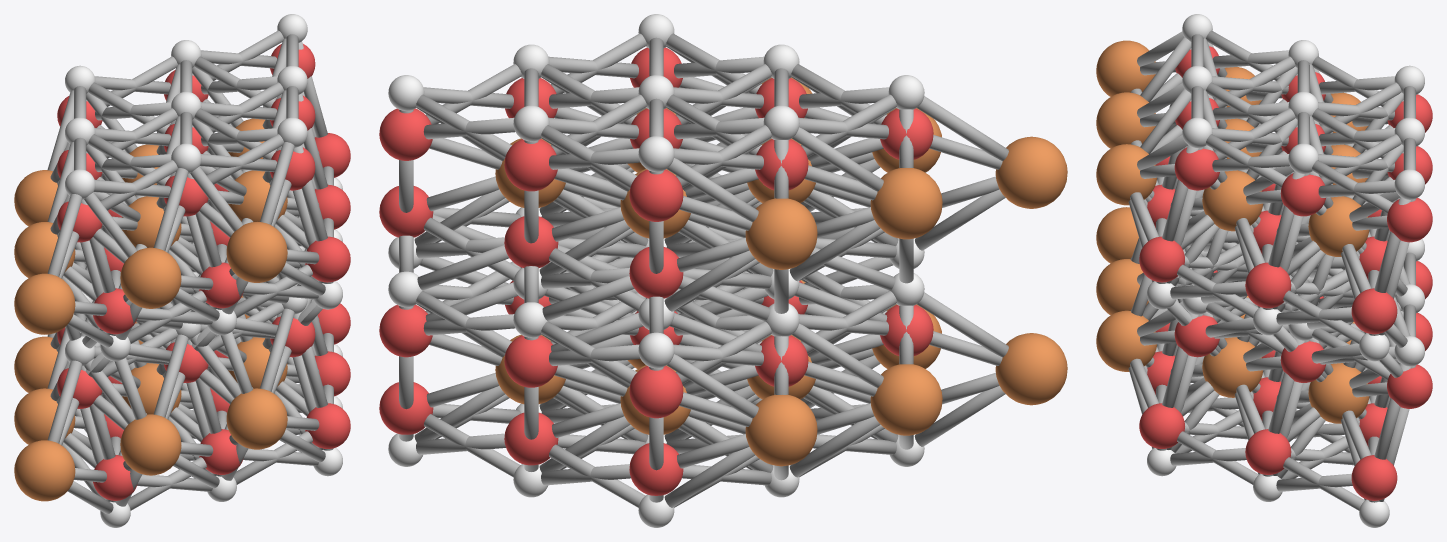
File: FeOH_structure.glb
3 views of the same model, side by side, from view 1: azimuth 30°, elevation 25°; view 2: azimuth 150°, elevation 25°; view 3: azimuth 270°, elevation 25° (orthographic). The views are drawn at different scales.
Visible parts, largest first — view 1: Sphere, Sphere.045, Sphere.075, Sphere.060, Sphere.015, Sphere.030, Sphere.005, Sphere.050, Sphere.010, Sphere.055, Sphere.077, Sphere.032 (+131 smaller); view 2: Sphere.045, Sphere.005, Sphere.055, Sphere, Sphere.050, Sphere.010, Sphere.011, Sphere.056, Sphere.071, Sphere.086, Sphere.041, Sphere.026 (+137 smaller); view 3: Sphere.075, Sphere.030, Sphere.045, Sphere.085, Sphere.080, Sphere.060, Sphere.035, Sphere.040, Sphere.015, Sphere, Sphere.087, Sphere.042 (+130 smaller).
Part boxes in pixels (x1,y1,x2,y2): Sphere: (14,440,75,501); Sphere.045: (14,273,75,334); Sphere.075: (226,222,287,282); Sphere.060: (120,247,181,308); Sphere.015: (120,414,181,475); Sphere.030: (226,388,287,449); Sphere.005: (14,388,75,444); Sphere.050: (14,222,75,278); Sphere.010: (14,336,57,392); Sphere.055: (14,170,57,226); Sphere.077: (305,236,350,282); Sphere.032: (305,403,350,448); Sphere.045: (995,136,1067,208); Sphere.005: (870,364,942,435); Sphere.055: (745,198,817,269); Sphere: (995,333,1067,405); Sphere.050: (870,168,942,239); Sphere.010: (745,394,817,466); Sphere.011: (629,366,683,418); Sphere.056: (629,169,683,221); Sphere.071: (504,139,557,191); Sphere.086: (379,108,432,160); Sphere.041: (379,305,432,357); Sphere.026: (504,335,557,387); Sphere.075: (1096,144,1156,205); Sphere.030: (1096,310,1156,371); Sphere.045: (1096,40,1155,96); Sphere.085: (1308,196,1369,256); Sphere.080: (1202,170,1263,231); Sphere.060: (1096,92,1155,148); Sphere.035: (1202,337,1263,397); Sphere.040: (1308,363,1369,423); Sphere.015: (1096,259,1148,315); Sphere: (1096,207,1138,263); Sphere.087: (1351,288,1397,334); Sphere.042: (1351,455,1397,500).
Size of the model in its own units: 6.83 by 5 by 4.39.
